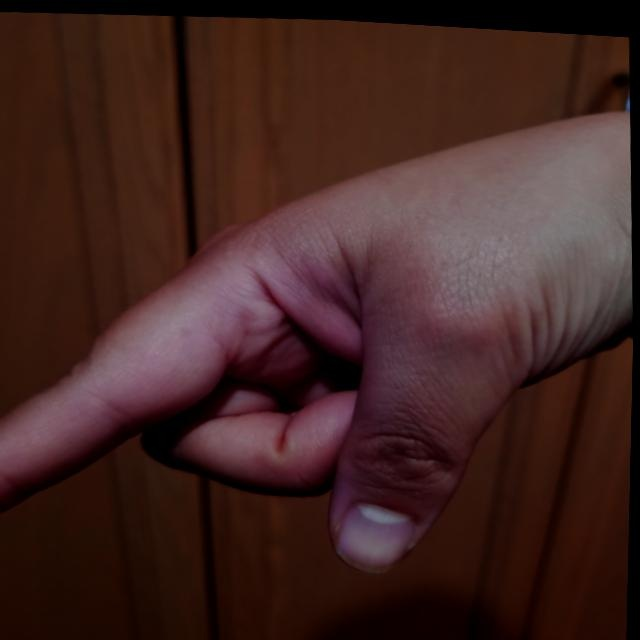Q: (0, 44, 638, 606)
